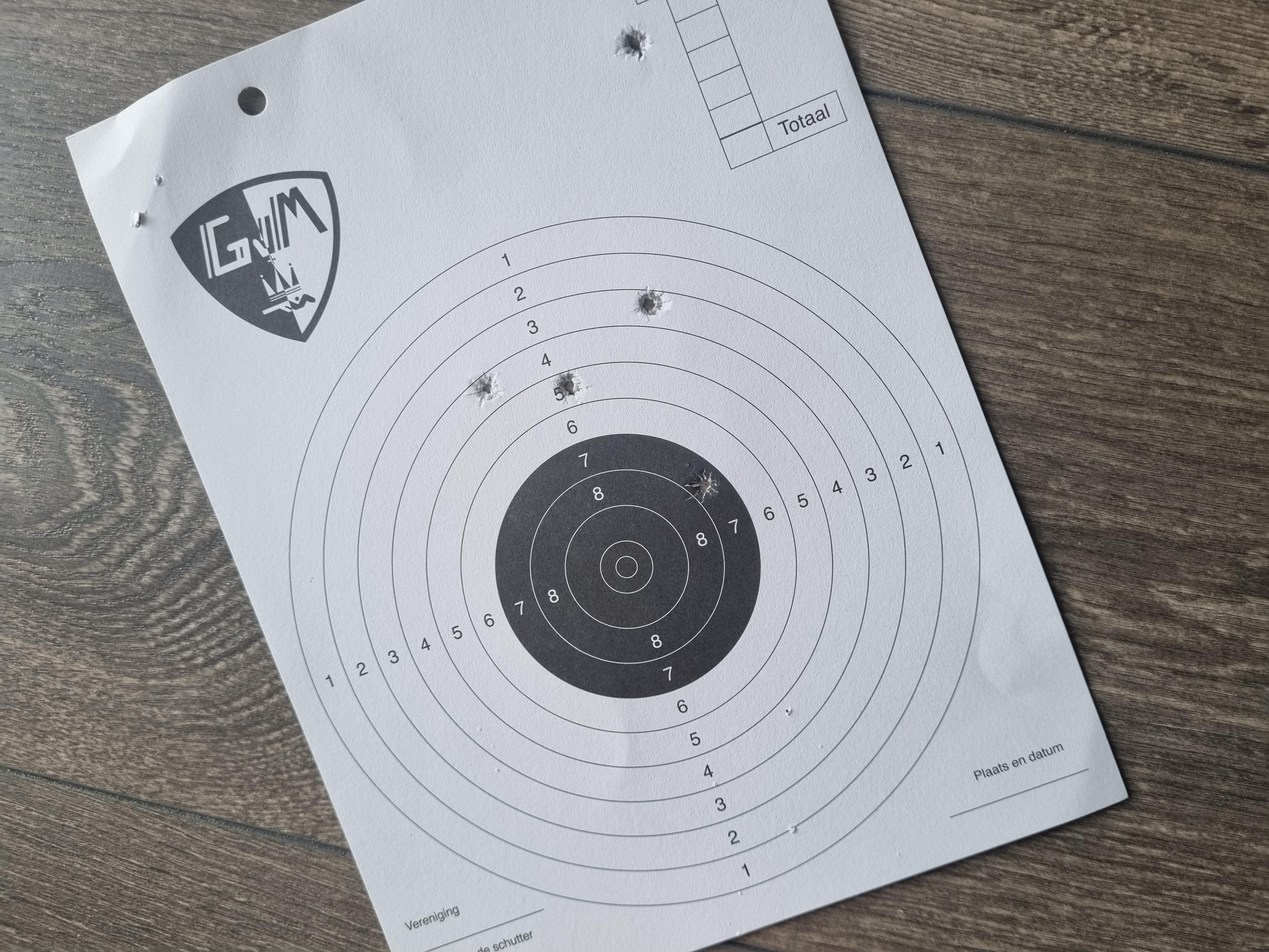hole: (1183, 459, 1238, 490), (843, 472, 892, 503), (601, 515, 650, 541), (731, 352, 777, 377), (733, 415, 778, 439)
